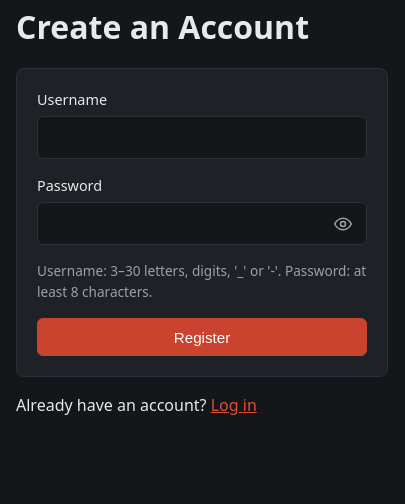
Test case: AuthPage › explains a taken username
Type "wolf" into the field labelled "Username" at (202, 138), box [37,116,367,159]
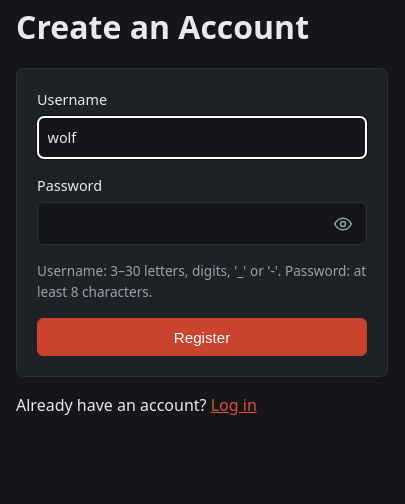
Type "kusabimaru" into the password field labelled "Password" at (202, 224), box [37,202,367,245]
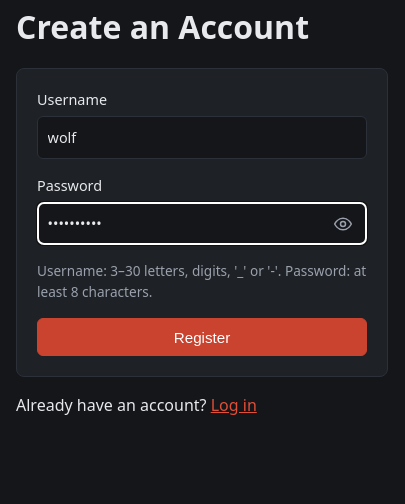
Click the button "Register" at (202, 337), box [37,318,367,356]
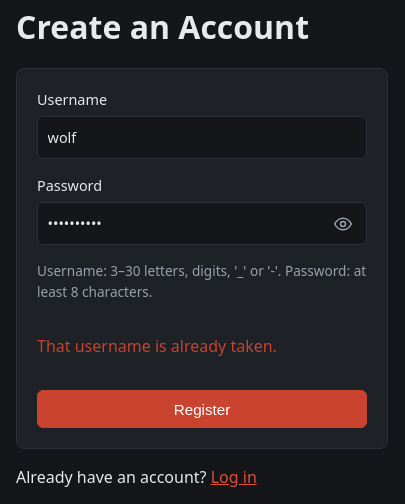
Result: the message reads "That username is already taken." at [37,335,277,357]
